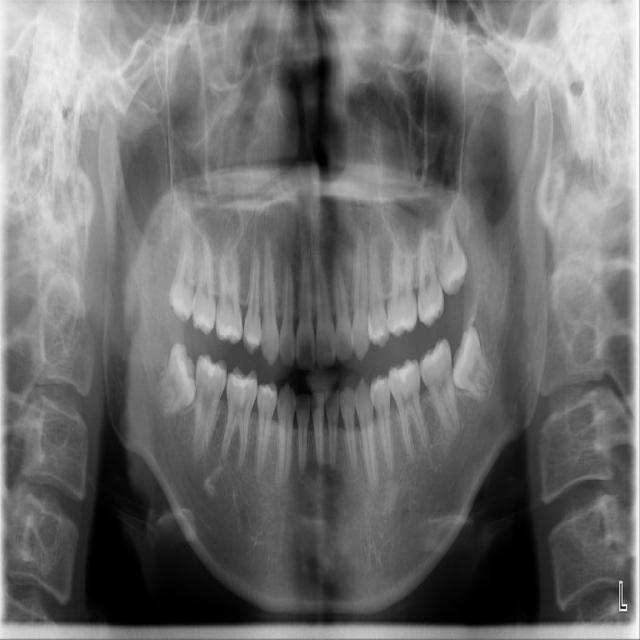impacted tooth: (454, 325, 496, 399), (153, 346, 195, 417), (168, 226, 196, 320)
